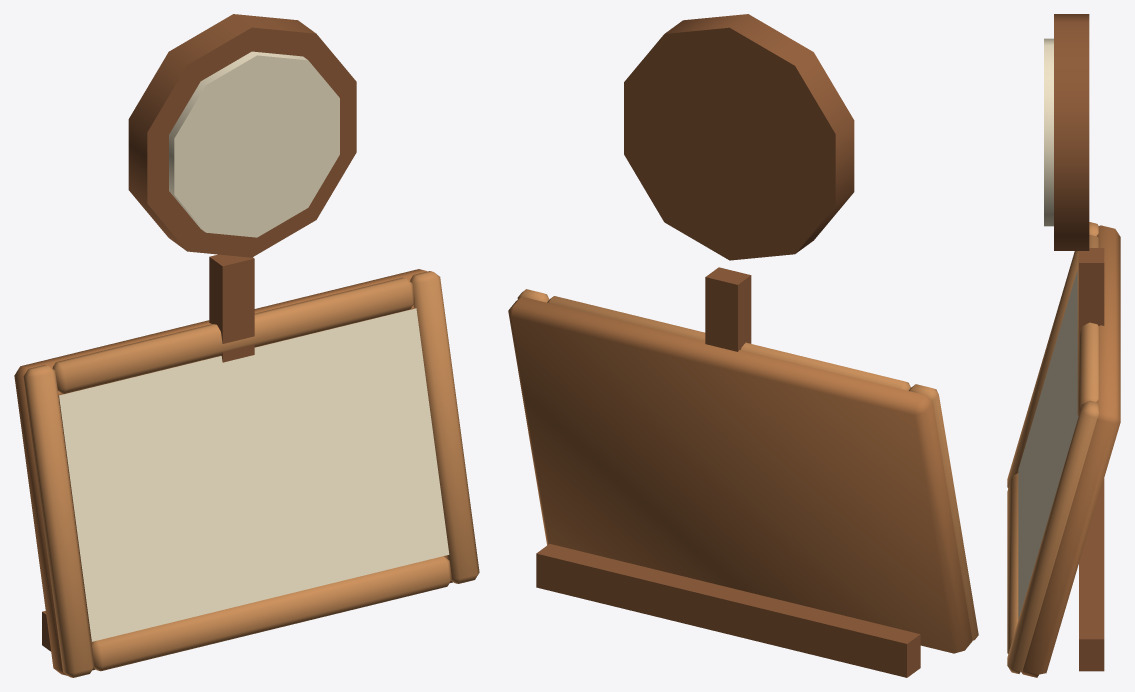
The model's file is info_board_wall.glb.
3 renders of one model, left to right at view 1: azimuth 30°, elevation 25°; view 2: azimuth 150°, elevation 25°; view 3: azimuth 270°, elevation 25°, orthographic. The views are drawn at different scales.
Visible parts, largest first — view 1: info_board_wall; view 2: info_board_wall; view 3: info_board_wall.
Part boxes in pixels (x1,y1,x2,y2): info_board_wall: [14, 14, 479, 677]; info_board_wall: [508, 14, 978, 677]; info_board_wall: [1007, 14, 1120, 677].
Size of the model in its own units: 0.9 by 1.24 by 0.2256.
1 material, 1 textured.
